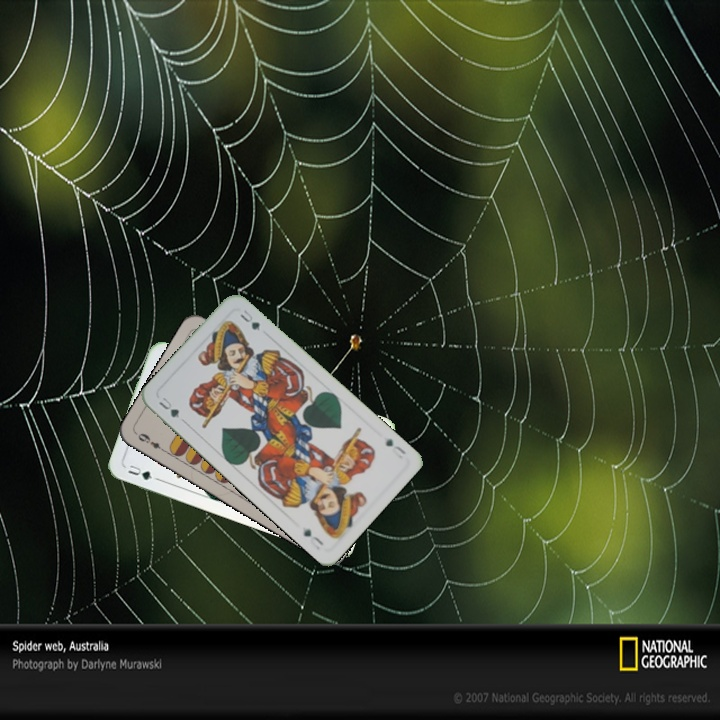E9: (134, 429, 169, 455)
GU: (155, 393, 182, 421), (124, 461, 155, 483), (381, 435, 408, 457)
